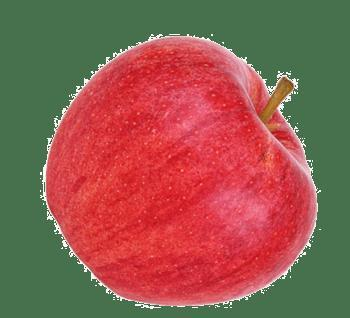apple: (48, 35, 317, 305)
